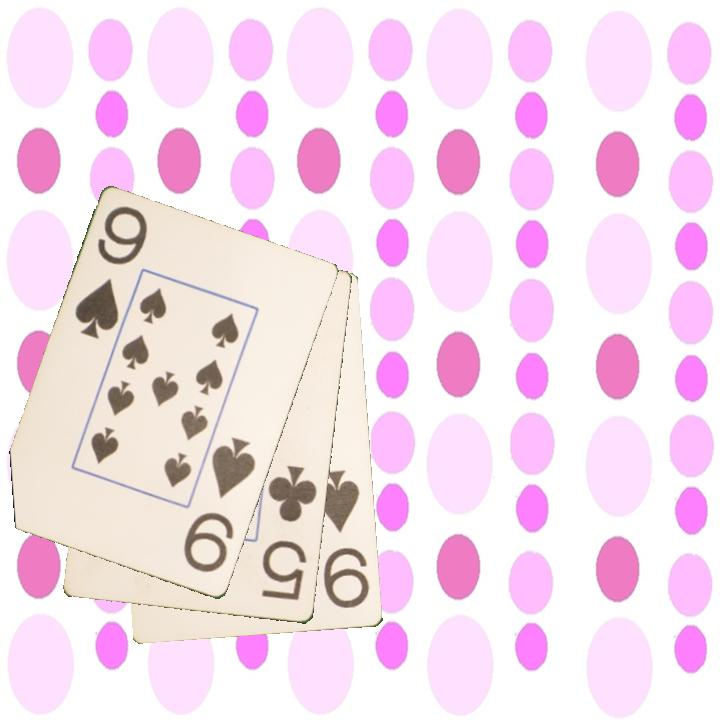5c: (259, 462, 320, 604)
9s: (180, 433, 259, 576), (71, 203, 151, 343), (312, 467, 373, 612)
